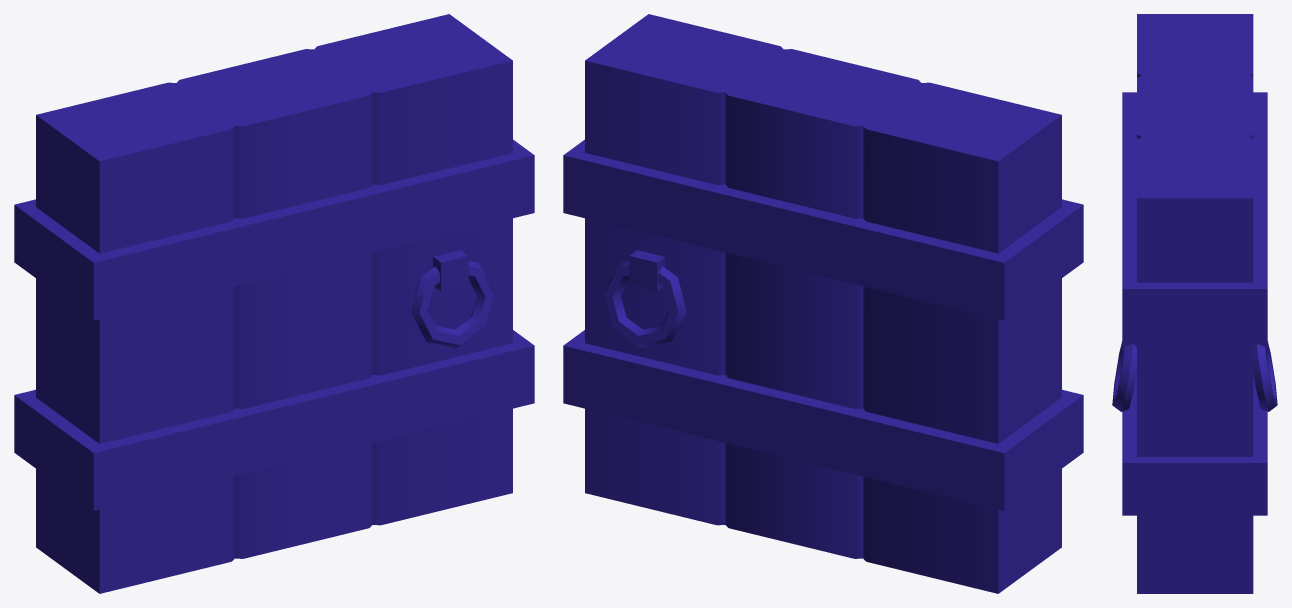
File: door_small.fbx
3 views of the same model, side by side, from view 1: azimuth 30°, elevation 25°; view 2: azimuth 150°, elevation 25°; view 3: azimuth 270°, elevation 25° (orthographic). The views are drawn at different scales.
Parts seen in each view (by area): view 1: door_small; view 2: door_small; view 3: door_small.
Part boxes in pixels (x1,y1,x2,y2): door_small: (14, 14, 534, 593); door_small: (563, 14, 1083, 593); door_small: (1112, 14, 1277, 593).
Bounding box in the file's own units: 1.6 × 1.5 × 0.5685.
